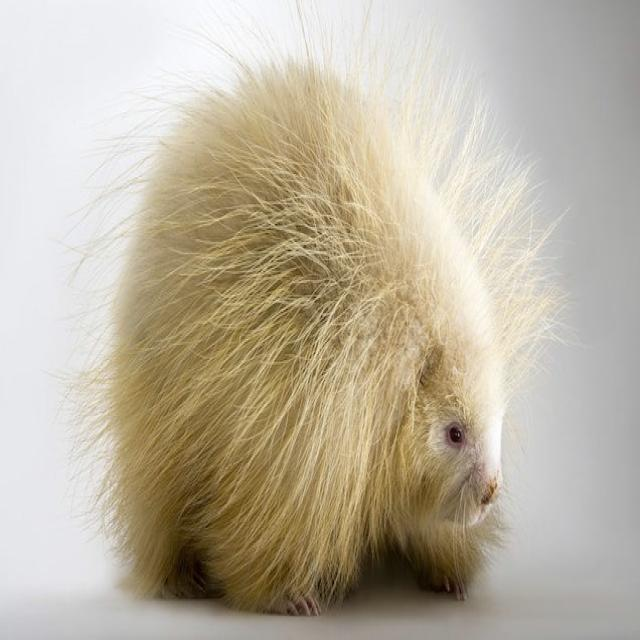porcupine: (91, 8, 553, 613)
